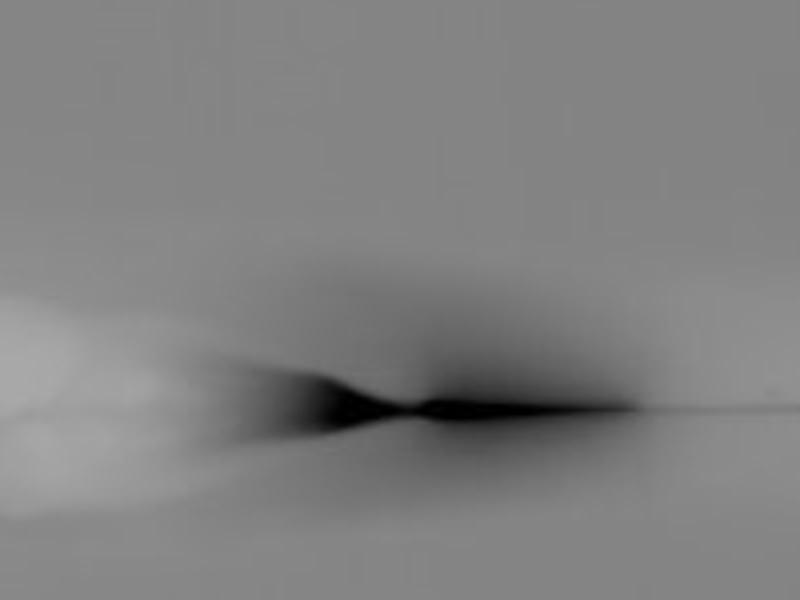defect: (264, 368, 394, 432), (404, 397, 639, 421)
